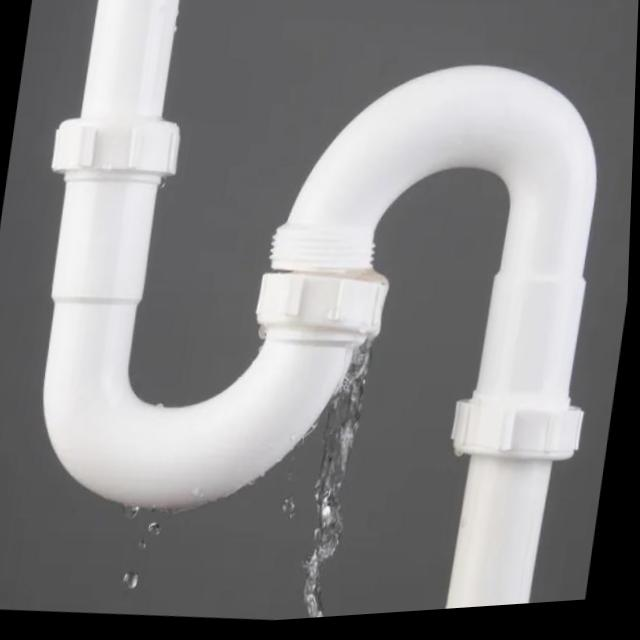leak: (270, 345, 385, 617)
